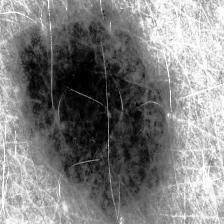Benign Marking or Mole: (14, 5, 170, 216)
